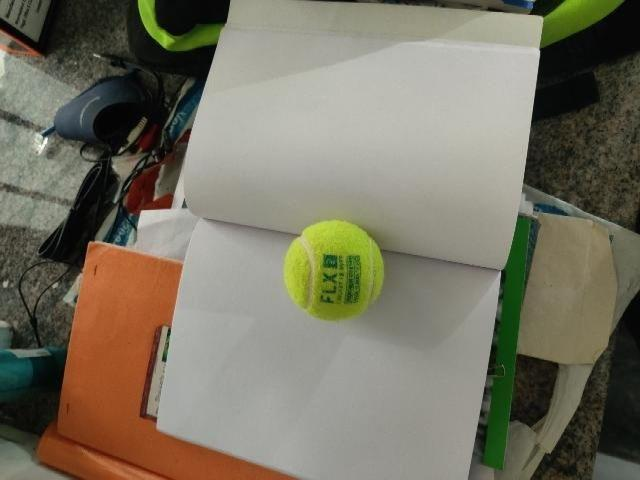tennis-ball: (283, 220, 385, 320)
